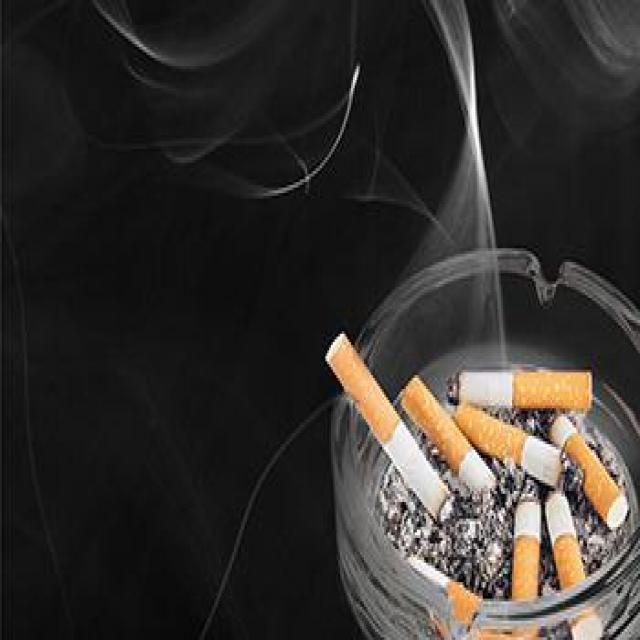cigarette: (326, 337, 450, 522)
